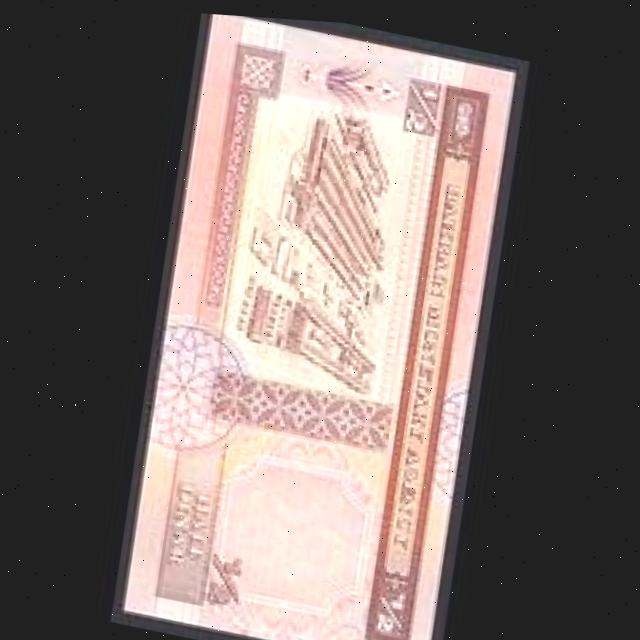banknote: (116, 6, 529, 640)
